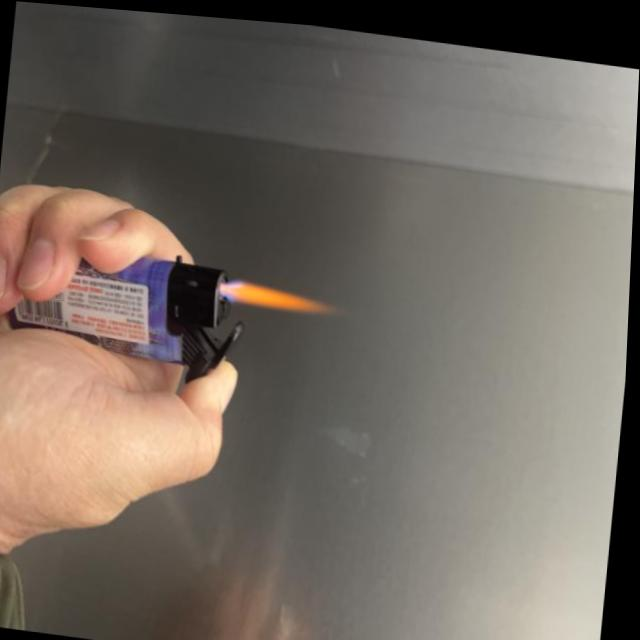Fire: (224, 272, 341, 309)
